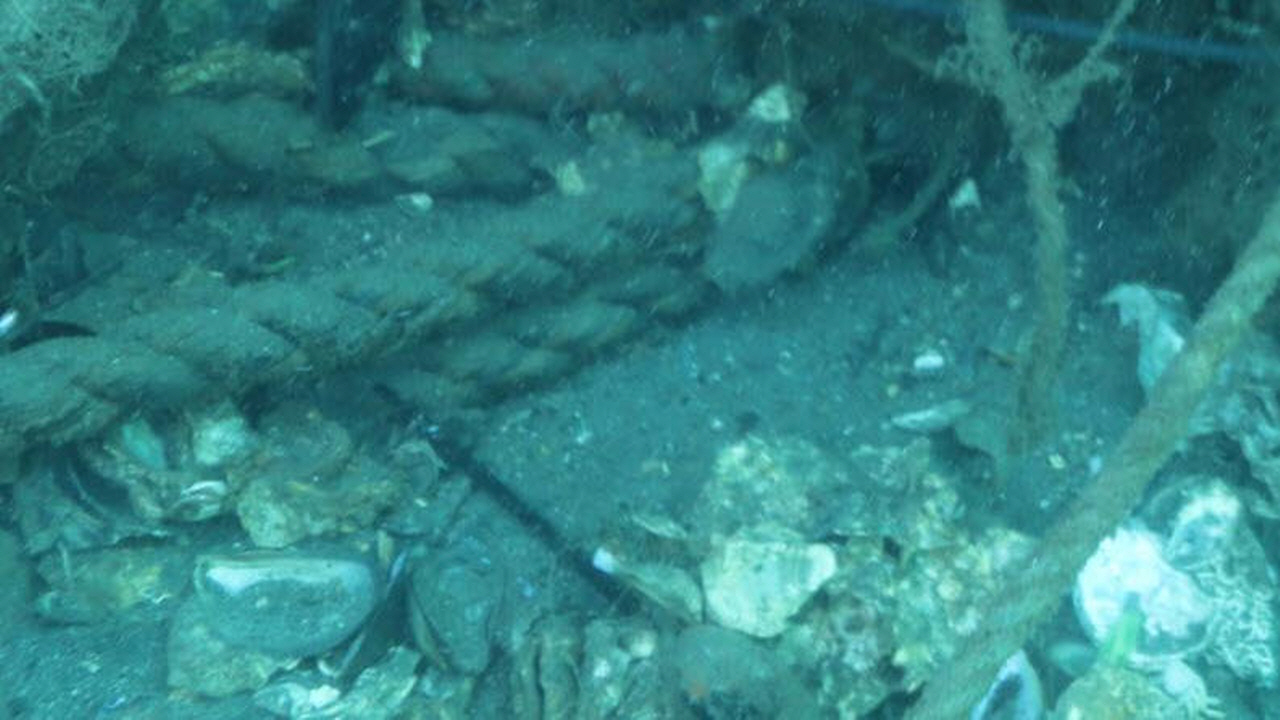bundle of ropes: (0, 0, 739, 468)
rope: (898, 192, 1276, 720)
